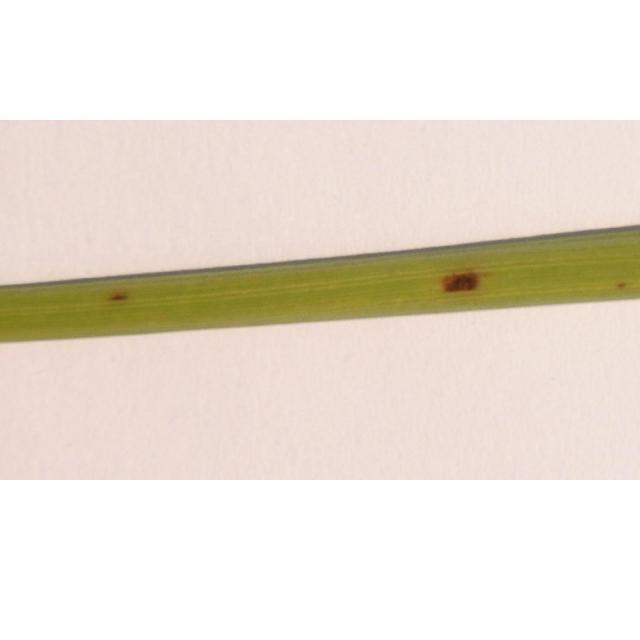Brown spot: (424, 261, 492, 301), (600, 270, 630, 296), (101, 285, 136, 307)
